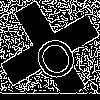O: (25, 25, 82, 85)
